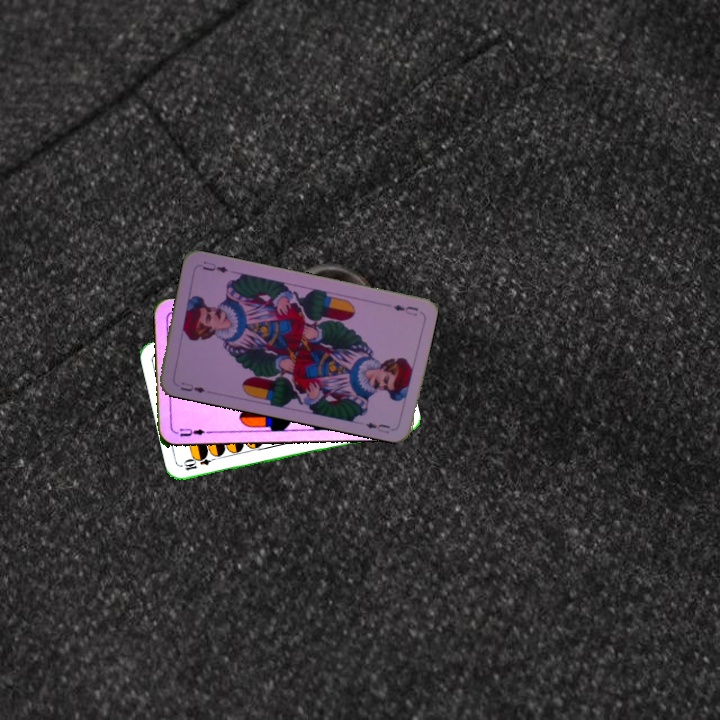E10: (180, 452, 220, 473)
EU: (176, 378, 208, 396), (389, 300, 421, 318), (176, 424, 212, 439)
